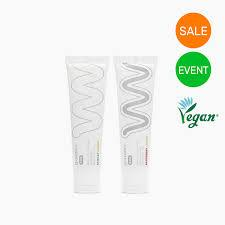toothpaste: (113, 55, 156, 201), (63, 53, 103, 195)
